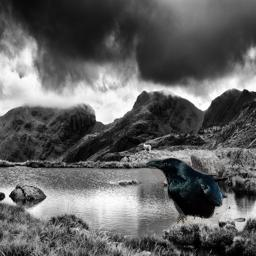Crow: (146, 158, 228, 224)
